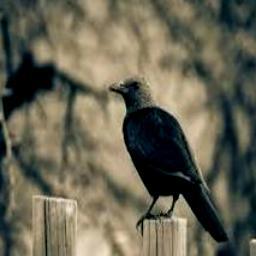Crow: (109, 75, 231, 242)
